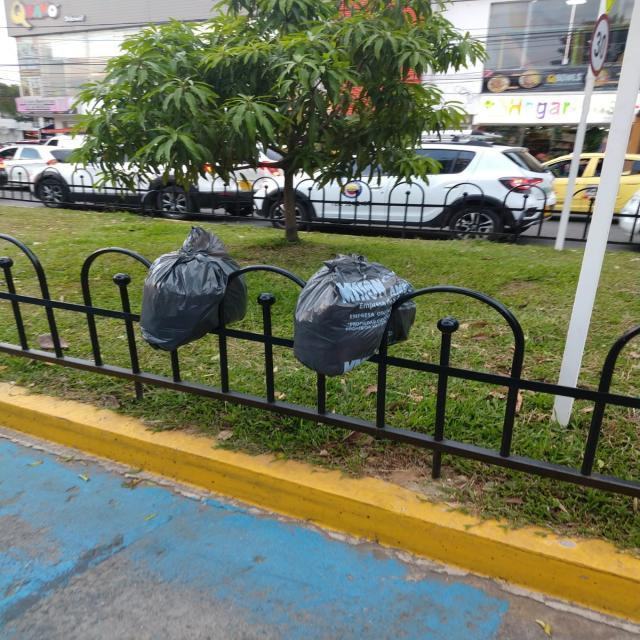Trashbag: (130, 228, 244, 364), (290, 251, 408, 376)
